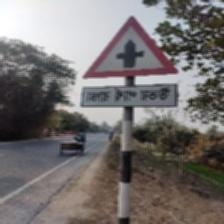Crossroad: (80, 14, 180, 109)
